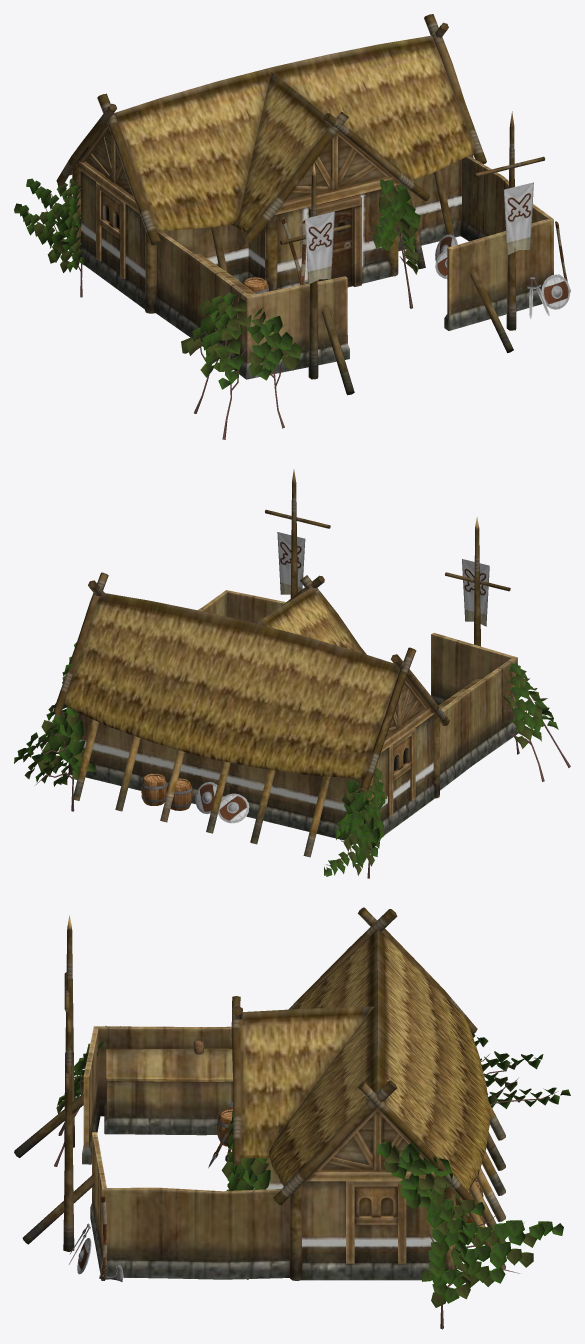
The model's file is 39-longhouse.glb.
The picture shows the model from 3 angles, top to bottom: view 1: azimuth 30°, elevation 25°; view 2: azimuth 150°, elevation 25°; view 3: azimuth 270°, elevation 25°; orthographic projection. The views are drawn at different scales.
Size of the model in its own units: 9.42 by 6.06 by 10.96.
Materials: 11 (10 with a texture image).
